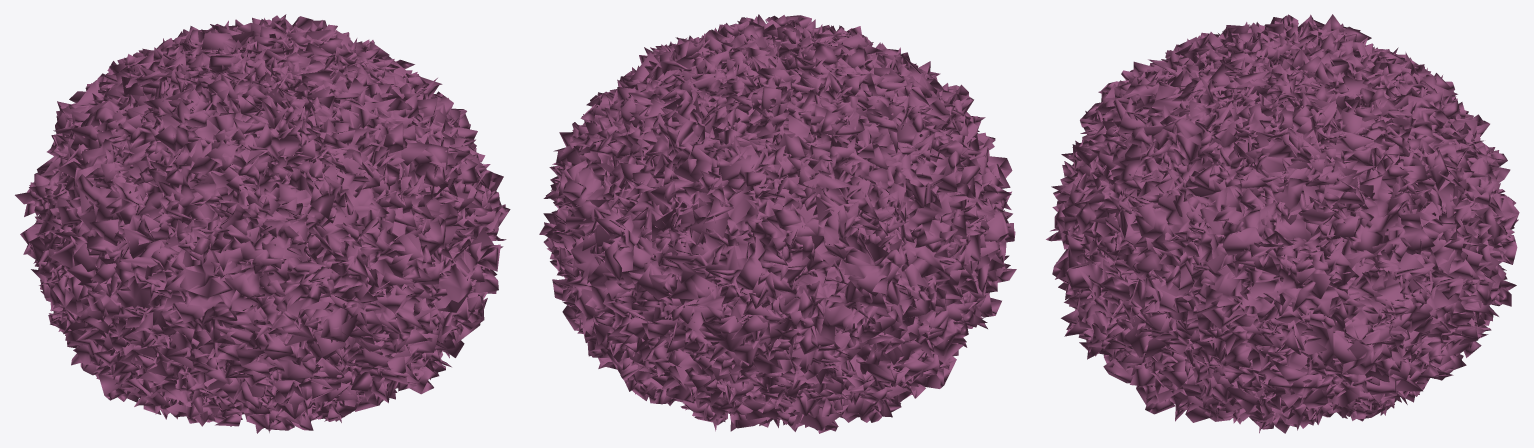
File: aforo.dae
The picture shows the model from 3 angles, left to right: view 1: azimuth 30°, elevation 25°; view 2: azimuth 150°, elevation 25°; view 3: azimuth 270°, elevation 25°; orthographic projection.
Parts seen in each view (by area): view 1: afuro; view 2: afuro; view 3: afuro.
Part boxes in pixels (x1,y1,x2,y2): afuro: [15, 14, 510, 433]; afuro: [539, 14, 1016, 433]; afuro: [1046, 14, 1519, 433].
Size of the model in its own units: 2.18 by 2.17 by 1.71.
